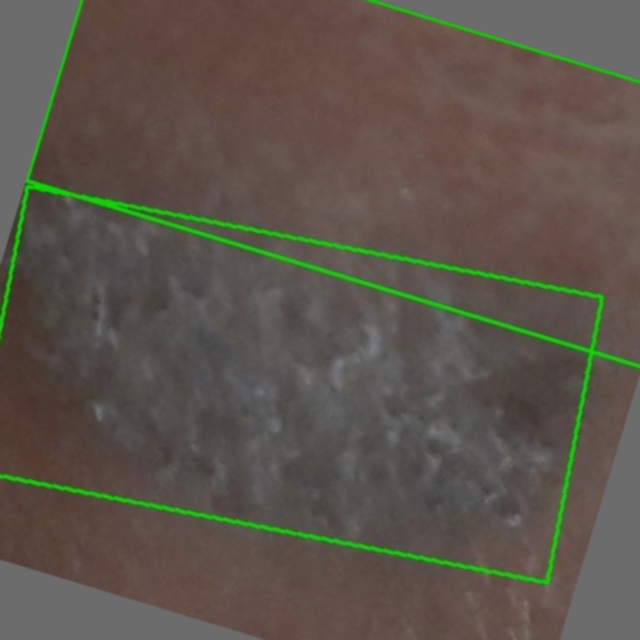Eczema: (0, 186, 601, 582), (26, 0, 639, 367)
